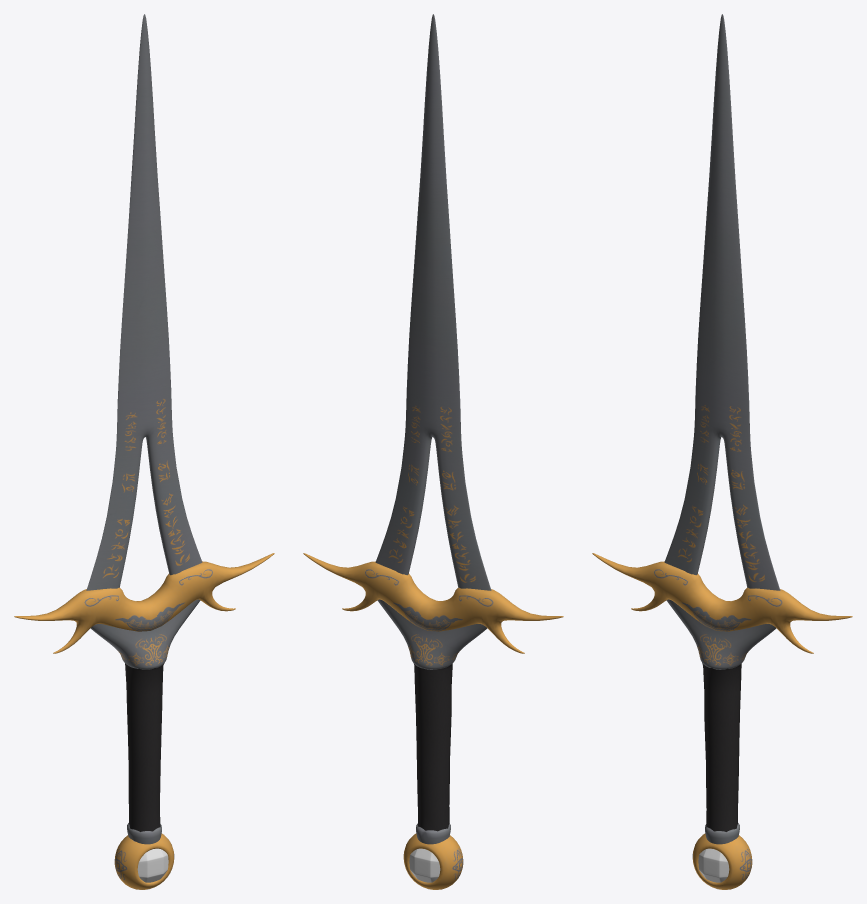
Rendered from Sword_V1.fbx.
3 views of the same model, side by side, from view 1: azimuth 30°, elevation 25°; view 2: azimuth 150°, elevation 25°; view 3: azimuth 330°, elevation 25° (orthographic).
Parts seen in each view (by area): view 1: Sword; view 2: Sword; view 3: Sword.
Part boxes in pixels (bbox=[...]): Sword: bbox=[14, 14, 274, 889]; Sword: bbox=[303, 14, 563, 889]; Sword: bbox=[592, 14, 852, 889].
Size of the model in its own units: 37.41 by 120 by 5.52.
